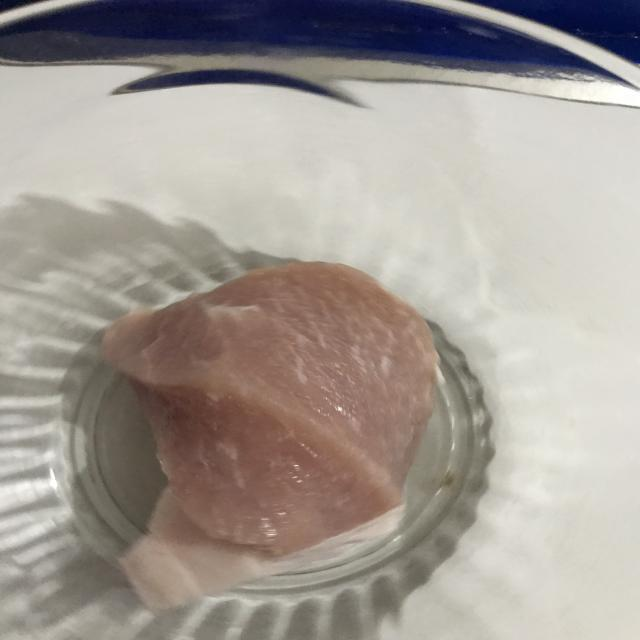chicken: (106, 257, 450, 597)
